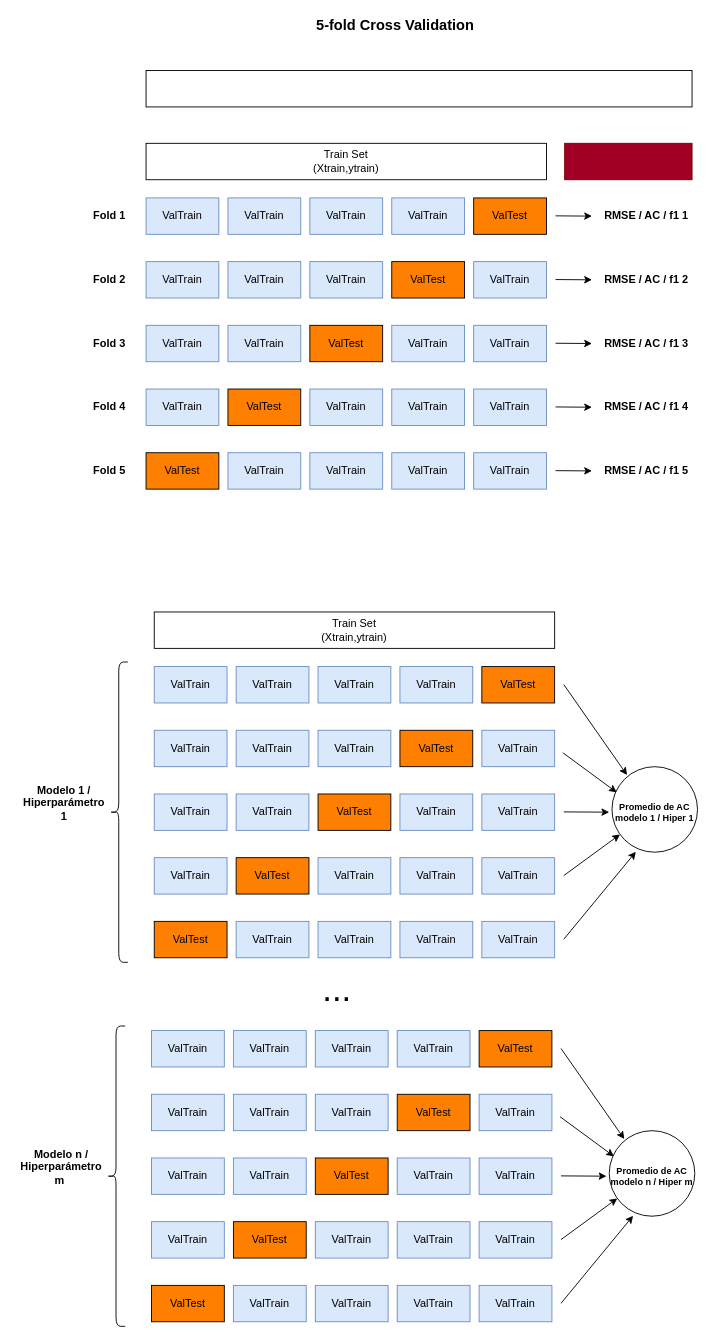
Image size: 715x1342. Some labels were removed from this diagram. Here are the shapes that lost their labels. From the top down, the centre of each, then its label:
the point at 418,88: Data Set (X,y)
the point at 628,161: Test Set (Xtest,ytest)
